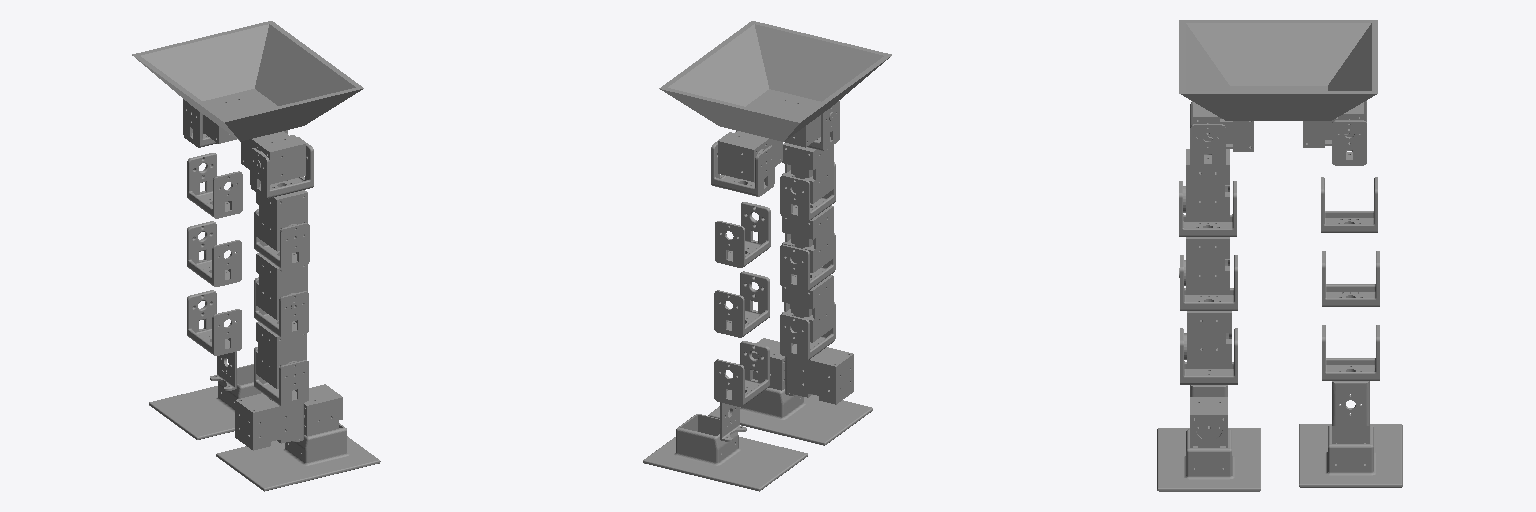
robot.urdf — Humanoid:
<robot name="Humanoid" version="1.0">
  <joint name="Cuerpo1:12_link_joint" type="revolute">
    <limit lower="-3.14000" upper="3.14000" effort="0.00000" velocity="0.00000"/>
    <origin rpy="0.00000 -1.57080 0.00000" xyz="-0.21425 5.38632 -1.91725"/>
    <parent link="base_link"/>
    <child link="Cuerpo1:12_link"/>
    <axis xyz="0.00000 0.00000 1.00000"/>
  </joint>
  <joint name="Cuerpo1:8_link_joint" type="revolute">
    <limit lower="-3.14000" upper="3.14000" effort="0.00000" velocity="0.00000"/>
    <origin rpy="1.57080 1.57080 0.00000" xyz="-6.19772 -0.21306 -0.21534"/>
    <parent link="Cuerpo1:12_link"/>
    <child link="Cuerpo1:8_link"/>
    <axis xyz="0.00000 0.00000 1.00000"/>
  </joint>
  <joint name="Cuerpo1:16_link_joint" type="revolute">
    <limit lower="-3.14000" upper="3.14000" effort="0.00000" velocity="0.00000"/>
    <origin rpy="-1.57080 0.00000 0.00000" xyz="-0.00022 -4.36054 -0.21144"/>
    <parent link="Cuerpo1:17_link"/>
    <child link="Cuerpo1:16_link"/>
    <axis xyz="0.00000 0.00000 1.00000"/>
  </joint>
  <joint name="Cuerpo1:14_link_joint" type="revolute">
    <limit lower="-3.14000" upper="3.14000" effort="0.00000" velocity="0.00000"/>
    <origin rpy="-0.00000 -1.57080 0.00000" xyz="3.06122 -0.00050 -0.21370"/>
    <parent link="Cuerpo1:16_link"/>
    <child link="Cuerpo1:14_link"/>
    <axis xyz="0.00000 0.00000 1.00000"/>
  </joint>
  <joint name="Cuerpo1:6_link_joint" type="revolute">
    <limit lower="-3.14000" upper="3.14000" effort="0.00000" velocity="0.00000"/>
    <origin rpy="-0.00000 0.00000 0.00000" xyz="-0.00133 -6.20314 0.00305"/>
    <parent link="Cuerpo1:8_link"/>
    <child link="Cuerpo1:6_link"/>
    <axis xyz="0.00000 0.00000 1.00000"/>
  </joint>
  <joint name="Cuerpo1:4_link_joint" type="revolute">
    <limit lower="-3.14000" upper="3.14000" effort="0.00000" velocity="0.00000"/>
    <origin rpy="-0.00000 0.00000 0.00000" xyz="0.00000 -6.19933 -0.09695"/>
    <parent link="Cuerpo1:6_link"/>
    <child link="Cuerpo1:4_link"/>
    <axis xyz="0.00000 0.00000 1.00000"/>
  </joint>
  <joint name="Cuerpo1:3_link_joint" type="revolute">
    <limit lower="-3.14000" upper="3.14000" effort="0.00000" velocity="0.00000"/>
    <origin rpy="-1.57080 0.00000 0.00000" xyz="0.00055 -4.36088 -0.21096"/>
    <parent link="Cuerpo1:4_link"/>
    <child link="Cuerpo1:3_link"/>
    <axis xyz="0.00000 0.00000 1.00000"/>
  </joint>
  <joint name="Cuerpo1:1_link_joint" type="revolute">
    <limit lower="-3.14000" upper="3.14000" effort="0.00000" velocity="0.00000"/>
    <origin rpy="0.00000 -1.57080 0.00000" xyz="3.06044 -0.00000 -0.21273"/>
    <parent link="Cuerpo1:3_link"/>
    <child link="Cuerpo1:1_link"/>
    <axis xyz="0.00000 0.00000 1.00000"/>
  </joint>
  <joint name="Cuerpo1:25_link_joint" type="revolute">
    <limit lower="-3.14000" upper="3.14000" effort="0.00000" velocity="0.00000"/>
    <origin rpy="0.00000 -1.57080 0.00000" xyz="-0.21425 -5.38714 -2.19568"/>
    <parent link="base_link"/>
    <child link="Cuerpo1:25_link"/>
    <axis xyz="0.00000 0.00000 1.00000"/>
  </joint>
  <joint name="Cuerpo1:21_link_joint" type="revolute">
    <limit lower="-3.14000" upper="3.14000" effort="0.00000" velocity="0.00000"/>
    <origin rpy="1.57080 1.57080 0.00000" xyz="-6.19792 -0.21458 -0.31401"/>
    <parent link="Cuerpo1:25_link"/>
    <child link="Cuerpo1:21_link"/>
    <axis xyz="0.00000 0.00000 1.00000"/>
  </joint>
  <joint name="Cuerpo1:19_link_joint" type="revolute">
    <limit lower="-3.14000" upper="3.14000" effort="0.00000" velocity="0.00000"/>
    <origin rpy="0.00000 0.00000 0.00000" xyz="0.00000 -6.20151 0.00307"/>
    <parent link="Cuerpo1:21_link"/>
    <child link="Cuerpo1:19_link"/>
    <axis xyz="0.00000 0.00000 1.00000"/>
  </joint>
  <joint name="Cuerpo1:17_link_joint" type="revolute">
    <limit lower="-3.14000" upper="3.14000" effort="0.00000" velocity="0.00000"/>
    <origin rpy="-0.00000 0.00000 -0.00000" xyz="0.00000 -6.20059 -0.09697"/>
    <parent link="Cuerpo1:19_link"/>
    <child link="Cuerpo1:17_link"/>
    <axis xyz="0.00000 0.00000 1.00000"/>
  </joint>
  <link name="base_link">
    <collision name="Cuerpo2:1_collision">
      <origin rpy="0.00000 0.00000 0.00000" xyz="0.00000 0.00000 0.00000"/>
      <geometry>
        <mesh filename="../meshes/obj/Cuerpo2:1.obj" scale="1.00000 1.00000 1.00000"/>
      </geometry>
    </collision>
    <inertial>
      <inertia ixx="15.55730" ixy="-0.00000" ixz="-0.00000" iyy="11.53222" iyz="-0.00000" izz="21.83108"/>
      <origin rpy="0.00000 0.00000 0.00000" xyz="0.00000 0.00000 1.64569"/>
      <mass value="0.90000"/>
    </inertial>
    <visual name="Cuerpo1:12">
      <material name="Acero_-_Satinado.001"/>
      <origin rpy="0.00000 0.00000 0.00000" xyz="-0.21425 4.43989 -1.91725"/>
      <geometry>
        <mesh filename="../meshes/obj/Cuerpo1:12.obj" scale="1.00000 1.00000 1.00000"/>
      </geometry>
    </visual>
    <visual name="Cuerpo1:25">
      <material name="Acero_-_Satinado.001"/>
      <origin rpy="0.00000 0.00000 0.00000" xyz="-0.21425 -4.43991 -2.19568"/>
      <geometry>
        <mesh filename="../meshes/obj/Cuerpo1:25.obj" scale="1.00000 1.00000 1.00000"/>
      </geometry>
    </visual>
    <visual name="Cuerpo2:1">
      <material name="Acero_-_Satinado.001"/>
      <origin rpy="0.00000 0.00000 0.00000" xyz="0.00000 0.00000 0.00000"/>
      <geometry>
        <mesh filename="../meshes/obj/Cuerpo2:1.obj" scale="1.00000 1.00000 1.00000"/>
      </geometry>
    </visual>
  </link>
  <link name="Cuerpo1:12_link">
    <collision name="Cuerpo3:3_collision">
      <origin rpy="-0.00000 1.57080 0.00000" xyz="-0.69217 0.00107 -0.21290"/>
      <geometry>
        <mesh filename="../meshes/obj/Cuerpo3:3.obj" scale="1.00000 1.00000 1.00000"/>
      </geometry>
    </collision>
    <inertial>
      <inertia ixx="1.44101" ixy="-0.00000" ixz="-0.00009" iyy="2.76047" iyz="-0.00014" izz="2.12303"/>
      <origin rpy="0.00000 0.00000 0.00000" xyz="-1.50152 0.00067 -0.21269"/>
      <mass value="0.90000"/>
    </inertial>
    <visual name="Cuerpo3:3">
      <material name="Acero_-_Satinado.001"/>
      <origin rpy="-0.00000 1.57080 0.00000" xyz="-0.69217 0.00107 -0.21290"/>
      <geometry>
        <mesh filename="../meshes/obj/Cuerpo3:3.obj" scale="1.00000 1.00000 1.00000"/>
      </geometry>
    </visual>
  </link>
  <link name="Cuerpo1:17_link">
    <collision name="Cuerpo3:4_collision">
      <origin rpy="-1.57080 0.00000 0.00000" xyz="-0.00072 -0.64980 -0.21244"/>
      <geometry>
        <mesh filename="../meshes/obj/Cuerpo3:4.obj" scale="1.00000 1.00000 1.00000"/>
      </geometry>
    </collision>
    <inertial>
      <inertia ixx="2.78919" ixy="0.00000" ixz="0.00027" iyy="1.47896" iyz="0.00007" izz="2.11110"/>
      <origin rpy="0.00000 0.00000 0.00000" xyz="-0.00020 -1.49500 -0.21274"/>
      <mass value="0.90000"/>
    </inertial>
    <visual name="Cuerpo3:4">
      <material name="Acero_-_Satinado.001"/>
      <origin rpy="-1.57080 0.00000 0.00000" xyz="-0.00072 -0.64980 -0.21244"/>
      <geometry>
        <mesh filename="../meshes/obj/Cuerpo3:4.obj" scale="1.00000 1.00000 1.00000"/>
      </geometry>
    </visual>
  </link>
  <link name="Cuerpo1:16_link">
    <collision name="Cuerpo1:15_collision">
      <origin rpy="0.00000 -0.00000 0.00000" xyz="0.95738 -0.05212 -0.19764"/>
      <geometry>
        <mesh filename="../meshes/obj/Cuerpo1:15.obj" scale="1.00000 1.00000 1.00000"/>
      </geometry>
    </collision>
    <inertial>
      <inertia ixx="1.87659" ixy="-0.00288" ixz="0.00051" iyy="1.35544" iyz="0.00089" izz="0.62661"/>
      <origin rpy="0.00000 0.00000 0.00000" xyz="1.16841 -0.00039 -0.21445"/>
      <mass value="0.90000"/>
    </inertial>
    <visual name="Cuerpo1:15">
      <material name="Acero_-_Satinado.001"/>
      <origin rpy="-0.00000 0.00000 -0.00000" xyz="0.95737 -0.05212 -0.19764"/>
      <geometry>
        <mesh filename="../meshes/obj/Cuerpo1:15.obj" scale="1.00000 1.00000 1.00000"/>
      </geometry>
    </visual>
    <visual name="Cuerpo1:16">
      <material name="Acero_-_Satinado.001"/>
      <origin rpy="0.00000 -0.00000 0.00000" xyz="-0.94716 -0.00050 0.00000"/>
      <geometry>
        <mesh filename="../meshes/obj/Cuerpo1:16.obj" scale="1.00000 1.00000 1.00000"/>
      </geometry>
    </visual>
  </link>
  <link name="Cuerpo1:14_link">
    <collision name="Cuerpo1:13_collision">
      <origin rpy="0.00000 1.57080 -0.00000" xyz="-3.68213 0.00025 0.79409"/>
      <geometry>
        <mesh filename="../meshes/obj/Cuerpo1:13.obj" scale="1.00000 1.00000 1.00000"/>
      </geometry>
    </collision>
    <inertial>
      <inertia ixx="3.01623" ixy="0.00000" ixz="-0.51058" iyy="5.85601" iyz="0.00000" izz="7.95597"/>
      <origin rpy="0.00000 0.00000 0.00000" xyz="-3.82332 0.00024 0.86199"/>
      <mass value="0.90000"/>
    </inertial>
    <visual name="Cuerpo1:13">
      <material name="Acero_-_Satinado.001"/>
      <origin rpy="0.00000 1.57080 0.00000" xyz="-3.68213 0.00025 0.79409"/>
      <geometry>
        <mesh filename="../meshes/obj/Cuerpo1:13.obj" scale="1.00000 1.00000 1.00000"/>
      </geometry>
    </visual>
    <visual name="Cuerpo1:14">
      <material name="Acero_-_Satinado.001"/>
      <origin rpy="0.00000 1.57080 0.00000" xyz="-0.94815 0.00000 0.00000"/>
      <geometry>
        <mesh filename="../meshes/obj/Cuerpo1:14.obj" scale="1.00000 1.00000 1.00000"/>
      </geometry>
    </visual>
  </link>
  <link name="Cuerpo1:8_link">
    <collision name="Cuerpo3:2_collision">
      <origin rpy="-1.57080 0.00000 0.00000" xyz="-0.00121 -0.69475 -0.21252"/>
      <geometry>
        <mesh filename="../meshes/obj/Cuerpo3:2.obj" scale="1.00000 1.00000 1.00000"/>
      </geometry>
    </collision>
    <inertial>
      <inertia ixx="2.76042" ixy="0.00000" ixz="-0.00014" iyy="1.44106" iyz="0.00009" izz="2.12303"/>
      <origin rpy="0.00000 0.00000 0.00000" xyz="-0.00160 -1.50380 -0.21276"/>
      <mass value="0.90000"/>
    </inertial>
    <visual name="Cuerpo3:2">
      <material name="Acero_-_Satinado.001"/>
      <origin rpy="-1.57080 0.00000 0.00000" xyz="-0.00121 -0.69475 -0.21252"/>
      <geometry>
        <mesh filename="../meshes/obj/Cuerpo3:2.obj" scale="1.00000 1.00000 1.00000"/>
      </geometry>
    </visual>
  </link>
  <link name="Cuerpo1:6_link">
    <collision name="Cuerpo3:1_collision">
      <origin rpy="-1.57080 0.00000 0.00000" xyz="0.00012 -0.69151 -0.31252"/>
      <geometry>
        <mesh filename="../meshes/obj/Cuerpo3:1.obj" scale="1.00000 1.00000 1.00000"/>
      </geometry>
    </collision>
    <inertial>
      <inertia ixx="2.76042" ixy="0.00000" ixz="-0.00014" iyy="1.44106" iyz="0.00009" izz="2.12303"/>
      <origin rpy="0.00000 0.00000 0.00000" xyz="-0.00027 -1.50066 -0.31276"/>
      <mass value="0.90000"/>
    </inertial>
    <visual name="Cuerpo3:1">
      <material name="Acero_-_Satinado.001"/>
      <origin rpy="-1.57080 0.00000 0.00000" xyz="0.00012 -0.69151 -0.31252"/>
      <geometry>
        <mesh filename="../meshes/obj/Cuerpo3:1.obj" scale="1.00000 1.00000 1.00000"/>
      </geometry>
    </visual>
  </link>
  <link name="Cuerpo1:4_link">
    <collision name="Cuerpo3_collision">
      <origin rpy="-1.57080 0.00000 0.00000" xyz="-0.00074 -0.65023 -0.21256"/>
      <geometry>
        <mesh filename="../meshes/obj/Cuerpo3.obj" scale="1.00000 1.00000 1.00000"/>
      </geometry>
    </collision>
    <inertial>
      <inertia ixx="2.78918" ixy="0.00000" ixz="0.00027" iyy="1.47896" iyz="0.00007" izz="2.11110"/>
      <origin rpy="0.00000 0.00000 0.00000" xyz="-0.00020 -1.49531 -0.21276"/>
      <mass value="0.90000"/>
    </inertial>
    <visual name="Cuerpo3">
      <material name="Acero_-_Satinado.001"/>
      <origin rpy="-1.57080 0.00000 0.00000" xyz="-0.00074 -0.65023 -0.21256"/>
      <geometry>
        <mesh filename="../meshes/obj/Cuerpo3.obj" scale="1.00000 1.00000 1.00000"/>
      </geometry>
    </visual>
  </link>
  <link name="Cuerpo1:3_link">
    <collision name="Cuerpo1:2_collision">
      <origin rpy="0.00000 -0.00000 0.00000" xyz="0.95659 -0.05163 -0.19761"/>
      <geometry>
        <mesh filename="../meshes/obj/Cuerpo1:2.obj" scale="1.00000 1.00000 1.00000"/>
      </geometry>
    </collision>
    <inertial>
      <inertia ixx="1.87659" ixy="-0.00288" ixz="0.00051" iyy="1.35544" iyz="0.00089" izz="0.62661"/>
      <origin rpy="0.00000 0.00000 0.00000" xyz="1.16763 0.00010 -0.21442"/>
      <mass value="0.90000"/>
    </inertial>
    <visual name="Cuerpo1:2">
      <material name="Acero_-_Satinado.001"/>
      <origin rpy="0.00000 0.00000 0.00000" xyz="0.95659 -0.05163 -0.19761"/>
      <geometry>
        <mesh filename="../meshes/obj/Cuerpo1:2.obj" scale="1.00000 1.00000 1.00000"/>
      </geometry>
    </visual>
  </link>
  <link name="Cuerpo1:1_link">
    <collision name="Cuerpo1_collision">
      <origin rpy="-0.00000 1.57080 0.00000" xyz="-3.68383 0.01137 0.79566"/>
      <geometry>
        <mesh filename="../meshes/obj/Cuerpo1.obj" scale="1.00000 1.00000 1.00000"/>
      </geometry>
    </collision>
    <inertial>
      <inertia ixx="3.01623" ixy="-0.00000" ixz="-0.51058" iyy="5.85601" iyz="-0.00000" izz="7.95597"/>
      <origin rpy="0.00000 0.00000 0.00000" xyz="-3.82426 0.00023 0.86198"/>
      <mass value="0.90000"/>
    </inertial>
    <visual name="Cuerpo1">
      <material name="Acero_-_Satinado.001"/>
      <origin rpy="-0.00000 1.57080 0.00000" xyz="-3.68307 0.00023 0.79409"/>
      <geometry>
        <mesh filename="../meshes/obj/Cuerpo1.obj" scale="1.00000 1.00000 1.00000"/>
      </geometry>
    </visual>
  </link>
  <link name="Cuerpo1:25_link">
    <collision name="Cuerpo3:7_collision">
      <origin rpy="0.00000 1.57080 0.00000" xyz="-0.69212 -0.00046 -0.31291"/>
      <geometry>
        <mesh filename="../meshes/obj/Cuerpo3:7.obj" scale="1.00000 1.00000 1.00000"/>
      </geometry>
    </collision>
    <inertial>
      <inertia ixx="1.44101" ixy="-0.00000" ixz="-0.00009" iyy="2.76047" iyz="-0.00014" izz="2.12303"/>
      <origin rpy="0.00000 0.00000 0.00000" xyz="-1.50104 -0.00087 -0.31269"/>
      <mass value="0.90000"/>
    </inertial>
    <visual name="Cuerpo1:21">
      <material name="Acero_-_Satinado.001"/>
      <origin rpy="-0.00000 1.57080 0.00000" xyz="-5.25215 -0.21459 -0.31401"/>
      <geometry>
        <mesh filename="../meshes/obj/Cuerpo1:21.obj" scale="1.00000 1.00000 1.00000"/>
      </geometry>
    </visual>
    <visual name="Cuerpo3:7">
      <material name="Acero_-_Satinado.001"/>
      <origin rpy="-0.00000 1.57080 0.00000" xyz="-0.69212 -0.00046 -0.31291"/>
      <geometry>
        <mesh filename="../meshes/obj/Cuerpo3:7.obj" scale="1.00000 1.00000 1.00000"/>
      </geometry>
    </visual>
  </link>
  <link name="Cuerpo1:21_link">
    <collision name="Cuerpo3:6_collision">
      <origin rpy="-1.57080 0.00000 0.00000" xyz="0.00014 -0.69401 -0.21240"/>
      <geometry>
        <mesh filename="../meshes/obj/Cuerpo3:6.obj" scale="1.00000 1.00000 1.00000"/>
      </geometry>
    </collision>
    <inertial>
      <inertia ixx="2.76042" ixy="0.00000" ixz="-0.00014" iyy="1.44106" iyz="0.00009" izz="2.12303"/>
      <origin rpy="0.00000 0.00000 0.00000" xyz="-0.00027 -1.50313 -0.21274"/>
      <mass value="0.90000"/>
    </inertial>
    <visual name="Cuerpo1:19">
      <material name="Acero_-_Satinado.001"/>
      <origin rpy="-1.57080 0.00000 0.00000" xyz="-0.00000 -5.25418 0.00307"/>
      <geometry>
        <mesh filename="../meshes/obj/Cuerpo1:19.obj" scale="1.00000 1.00000 1.00000"/>
      </geometry>
    </visual>
    <visual name="Cuerpo3:6">
      <material name="Acero_-_Satinado.001"/>
      <origin rpy="-1.57080 0.00000 0.00000" xyz="0.00014 -0.69401 -0.21240"/>
      <geometry>
        <mesh filename="../meshes/obj/Cuerpo3:6.obj" scale="1.00000 1.00000 1.00000"/>
      </geometry>
    </visual>
  </link>
  <link name="Cuerpo1:19_link">
    <collision name="Cuerpo3:5_collision">
      <origin rpy="-1.57080 0.00000 0.00000" xyz="0.00014 -0.69235 -0.31257"/>
      <geometry>
        <mesh filename="../meshes/obj/Cuerpo3:5.obj" scale="1.00000 1.00000 1.00000"/>
      </geometry>
    </collision>
    <inertial>
      <inertia ixx="2.76042" ixy="0.00000" ixz="-0.00014" iyy="1.44106" iyz="0.00009" izz="2.12303"/>
      <origin rpy="0.00000 0.00000 0.00000" xyz="-0.00027 -1.50161 -0.31276"/>
      <mass value="0.90000"/>
    </inertial>
    <visual name="Cuerpo1:17">
      <material name="Acero_-_Satinado.001"/>
      <origin rpy="-1.57080 0.00000 0.00000" xyz="-0.00000 -5.25281 -0.09697"/>
      <geometry>
        <mesh filename="../meshes/obj/Cuerpo1:17.obj" scale="1.00000 1.00000 1.00000"/>
      </geometry>
    </visual>
    <visual name="Cuerpo3:5">
      <material name="Acero_-_Satinado.001"/>
      <origin rpy="-1.57080 0.00000 0.00000" xyz="0.00014 -0.69235 -0.31257"/>
      <geometry>
        <mesh filename="../meshes/obj/Cuerpo3:5.obj" scale="1.00000 1.00000 1.00000"/>
      </geometry>
    </visual>
  </link>
  <material name="Acero_-_Satinado.001">
    <color rgba="0.62745 0.62745 0.62745 1.00000"/>
  </material>
</robot>

--- What the picture shows (computed from the rendered views, not written in the file) ---
The picture shows the robot from 3 angles, left to right: view 1: azimuth 30°, elevation 25°; view 2: azimuth 150°, elevation 25°; view 3: azimuth 270°, elevation 25°; orthographic projection.
Model Humanoid with 13 links and 12 joints (12 revolute), rooted at base_link, posed every joint at zero.
Visible links, largest first — view 1: base_link, Cuerpo1:14_link, Cuerpo1:25_link, Cuerpo1:21_link, Cuerpo1:1_link, Cuerpo1:19_link, Cuerpo1:16_link, Cuerpo1:8_link, Cuerpo1:6_link, Cuerpo1:4_link, Cuerpo1:17_link, Cuerpo1:12_link (+1 smaller); view 2: base_link, Cuerpo1:1_link, Cuerpo1:14_link, Cuerpo1:21_link, Cuerpo1:19_link, Cuerpo1:16_link, Cuerpo1:25_link, Cuerpo1:6_link, Cuerpo1:4_link, Cuerpo1:8_link, Cuerpo1:17_link, Cuerpo1:12_link (+1 smaller); view 3: base_link, Cuerpo1:14_link, Cuerpo1:1_link, Cuerpo1:25_link, Cuerpo1:19_link, Cuerpo1:21_link, Cuerpo1:3_link, Cuerpo1:6_link, Cuerpo1:4_link, Cuerpo1:12_link, Cuerpo1:8_link, Cuerpo1:17_link.
Link boxes in pixels (x1=…): base_link: x1=132, y1=21, x2=363, y2=184; Cuerpo1:14_link: x1=216, y1=384, x2=380, y2=491; Cuerpo1:25_link: x1=250, y1=137, x2=313, y2=251; Cuerpo1:21_link: x1=254, y1=209, x2=309, y2=320; Cuerpo1:1_link: x1=149, y1=364, x2=261, y2=439; Cuerpo1:19_link: x1=254, y1=277, x2=308, y2=388; Cuerpo1:16_link: x1=235, y1=390, x2=303, y2=450; Cuerpo1:8_link: x1=187, y1=153, x2=242, y2=218; Cuerpo1:6_link: x1=187, y1=221, x2=241, y2=286; Cuerpo1:4_link: x1=187, y1=290, x2=241, y2=355; Cuerpo1:17_link: x1=254, y1=347, x2=308, y2=407; Cuerpo1:12_link: x1=183, y1=99, x2=217, y2=147; base_link: x1=659, y1=21, x2=891, y2=181; Cuerpo1:1_link: x1=643, y1=414, x2=807, y2=491; Cuerpo1:14_link: x1=708, y1=338, x2=872, y2=445; Cuerpo1:21_link: x1=780, y1=162, x2=835, y2=272; Cuerpo1:19_link: x1=780, y1=233, x2=835, y2=342; Cuerpo1:16_link: x1=785, y1=344, x2=853, y2=404; Cuerpo1:25_link: x1=782, y1=101, x2=839, y2=203; Cuerpo1:6_link: x1=714, y1=271, x2=769, y2=337; Cuerpo1:4_link: x1=714, y1=341, x2=769, y2=406; Cuerpo1:8_link: x1=715, y1=202, x2=770, y2=267; Cuerpo1:17_link: x1=780, y1=302, x2=835, y2=361; Cuerpo1:12_link: x1=711, y1=134, x2=774, y2=196; base_link: x1=1179, y1=20, x2=1377, y2=151; Cuerpo1:14_link: x1=1157, y1=397, x2=1260, y2=491; Cuerpo1:1_link: x1=1299, y1=424, x2=1402, y2=487; Cuerpo1:25_link: x1=1183, y1=101, x2=1229, y2=220; Cuerpo1:19_link: x1=1180, y1=255, x2=1237, y2=367; Cuerpo1:21_link: x1=1179, y1=181, x2=1236, y2=293; Cuerpo1:3_link: x1=1332, y1=381, x2=1369, y2=425; Cuerpo1:6_link: x1=1322, y1=251, x2=1379, y2=306; Cuerpo1:4_link: x1=1322, y1=325, x2=1379, y2=380; Cuerpo1:12_link: x1=1332, y1=101, x2=1366, y2=165; Cuerpo1:8_link: x1=1321, y1=177, x2=1377, y2=232; Cuerpo1:17_link: x1=1180, y1=328, x2=1237, y2=384.
Bounding box of the posed robot: 13.78 × 18.68 × 33.2 m (x, y, z).
20 mesh visuals loaded from 20 distinct referenced files (20 OBJ).
